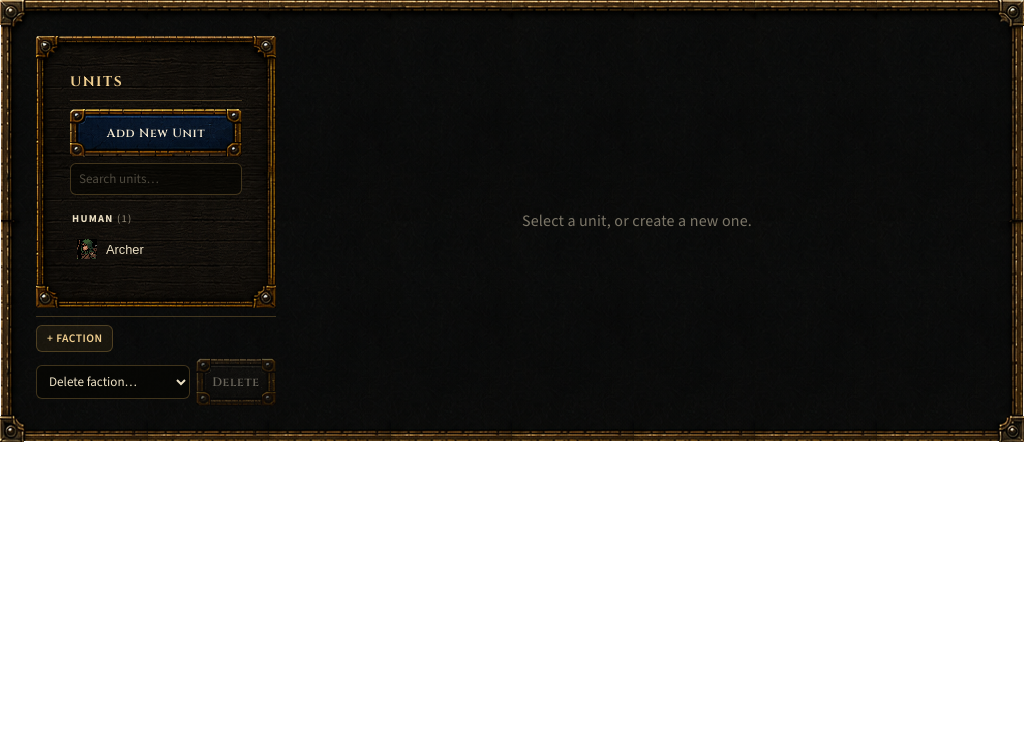
Test: UnitTypeEditorPanel path form — creating a new path › shows an editable id and an empty rank grid
What coordinates should you click on to do the following:
click the button "Archer"
I would click on:
 (134, 249)
Its box is top-left (70, 234), bottom-right (197, 264).
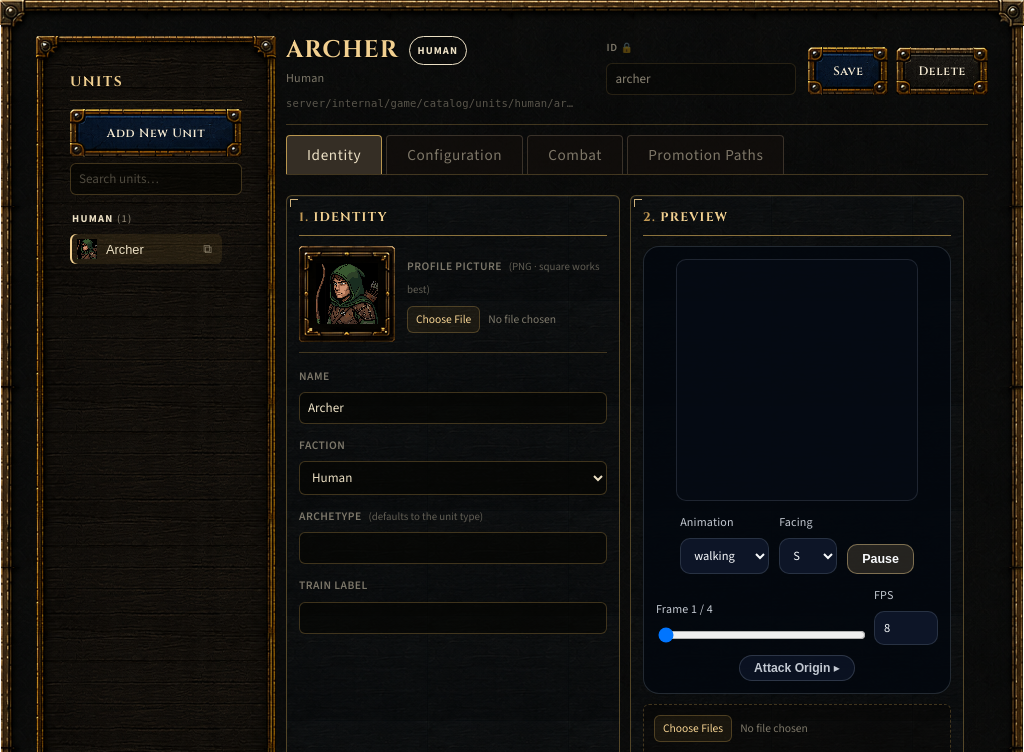
What coordinates should you click on to do the following:
click the tab "Promotion Paths"
I would click on:
 (706, 154)
Its box is top-left (627, 135), bottom-right (784, 174).
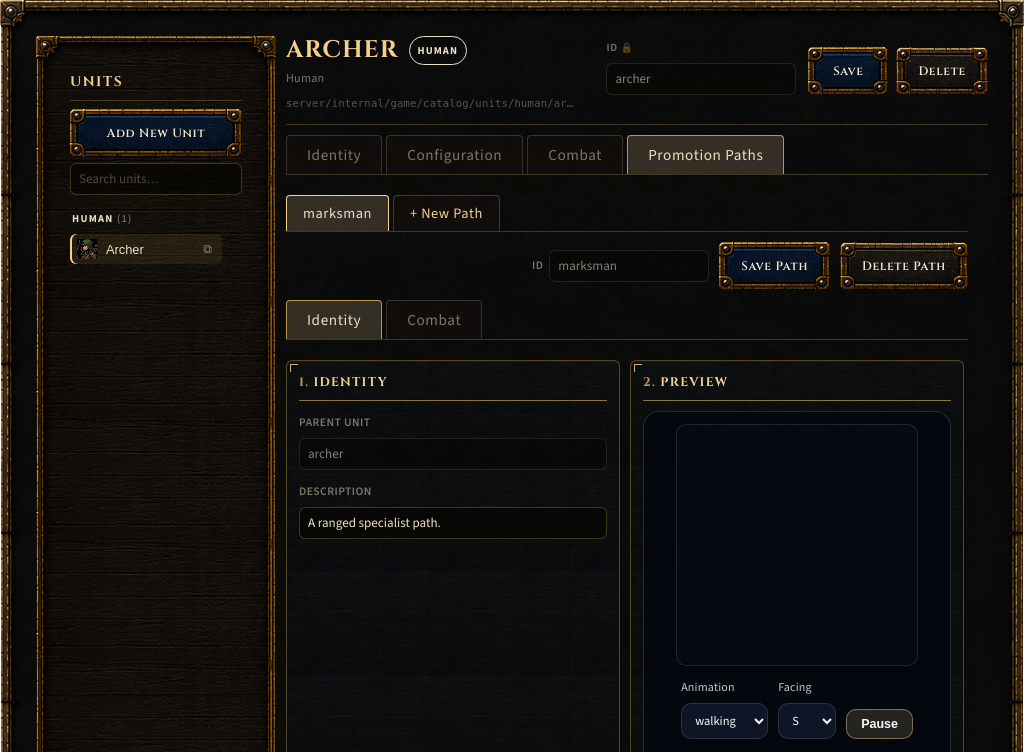
What coordinates should you click on to do the following:
click the button "+ New Path"
I would click on:
 (446, 213)
Its box is top-left (393, 195), bottom-right (500, 231).
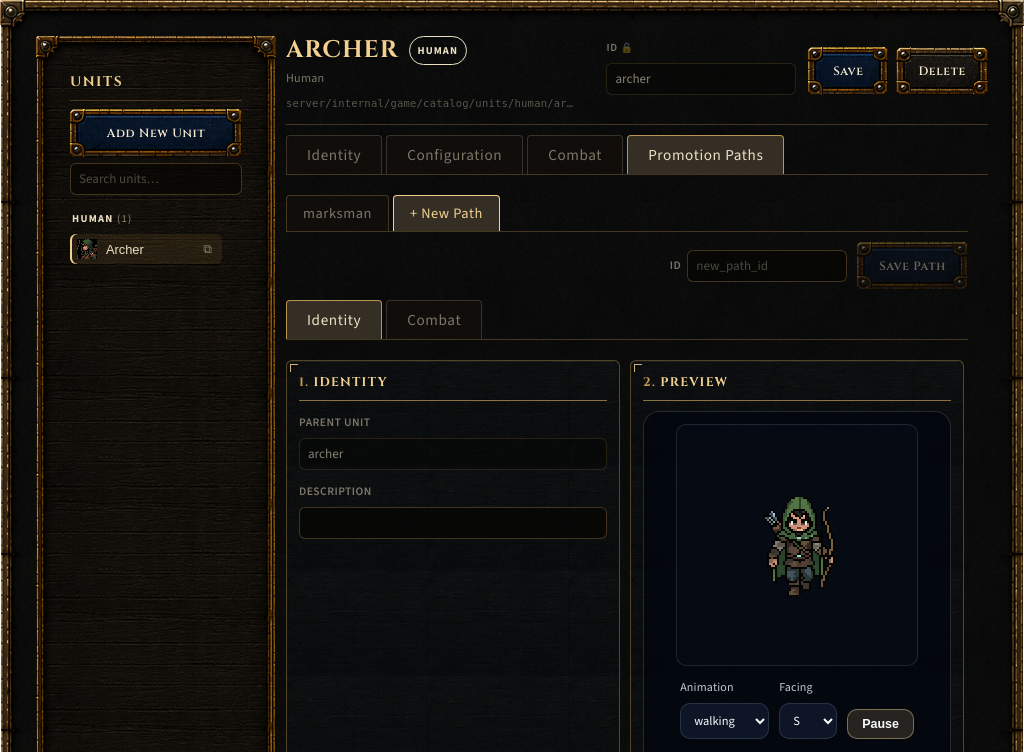
Now the field labelled "id" is empty, box top-left (687, 250), bottom-right (847, 282)
Now the field labelled "id" is enabled, box top-left (687, 250), bottom-right (847, 282)
